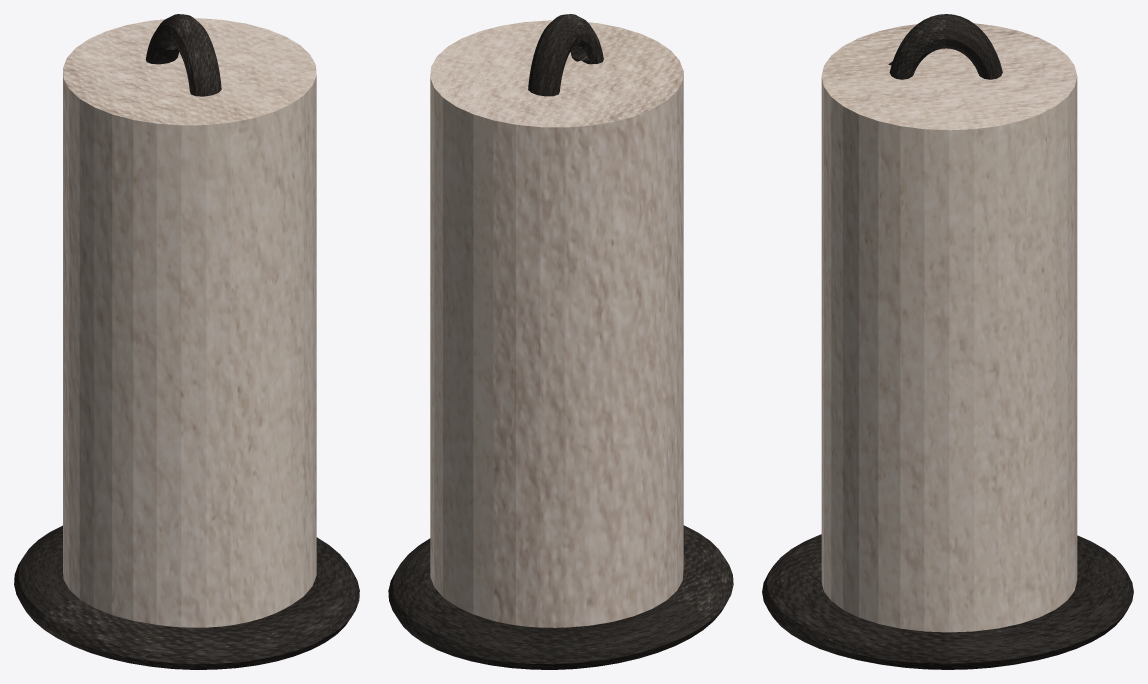
Rendered from paper-towel-holder.obj.
The picture shows the model from 3 angles, left to right: view 1: azimuth 30°, elevation 25°; view 2: azimuth 150°, elevation 25°; view 3: azimuth 270°, elevation 25°; orthographic projection.
Parts seen in each view (by area): view 1: Cylinder, BaseRing; view 2: Cylinder, BaseRing; view 3: Cylinder, BaseRing.
Part boxes in pixels (box(x1,y1,x2,y2)): Cylinder: box(63, 18, 316, 627); BaseRing: box(14, 14, 359, 669); Cylinder: box(430, 20, 683, 627); BaseRing: box(388, 14, 733, 669); Cylinder: box(821, 23, 1077, 632); BaseRing: box(762, 14, 1133, 669).
Bounding box in the file's own units: 4.92 × 9.68 × 5.39.
2 materials, 2 textured.
